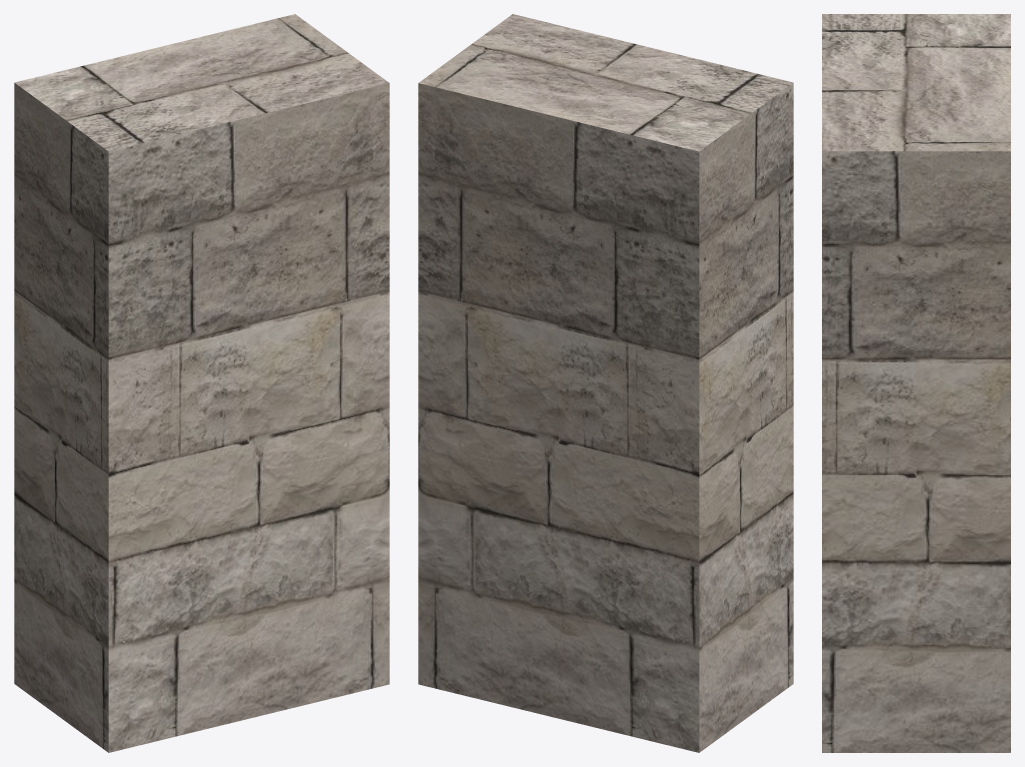
Rendered from hall_end_return.glb.
3 renders of one model, left to right at view 1: azimuth 30°, elevation 25°; view 2: azimuth 150°, elevation 25°; view 3: azimuth 270°, elevation 25°, orthographic.
Visible parts, largest first — view 1: Far end masonry return; view 2: Far end masonry return; view 3: Far end masonry return.
Boxes of the visible parts, <box> form: Far end masonry return: <box>14,14,389,752</box>; Far end masonry return: <box>418,14,793,752</box>; Far end masonry return: <box>822,14,1010,752</box>.
Bounding box in the file's own units: 1.1 × 2.25 × 0.64.
1 material, 1 textured.
